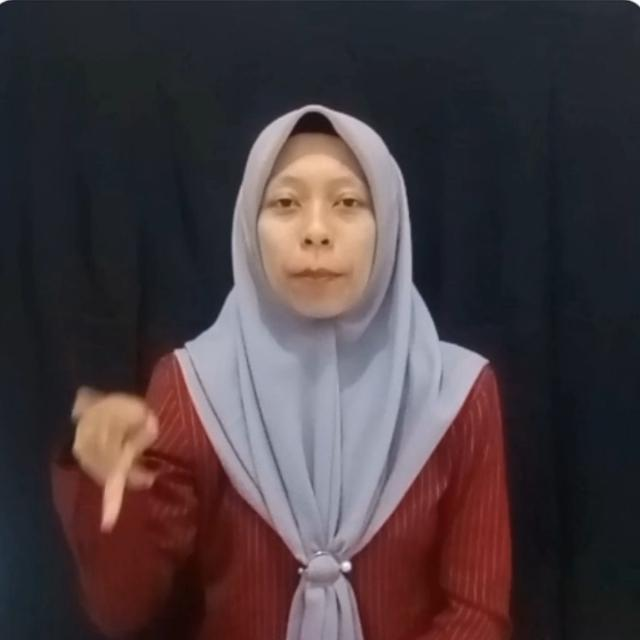P: (58, 382, 164, 532)
